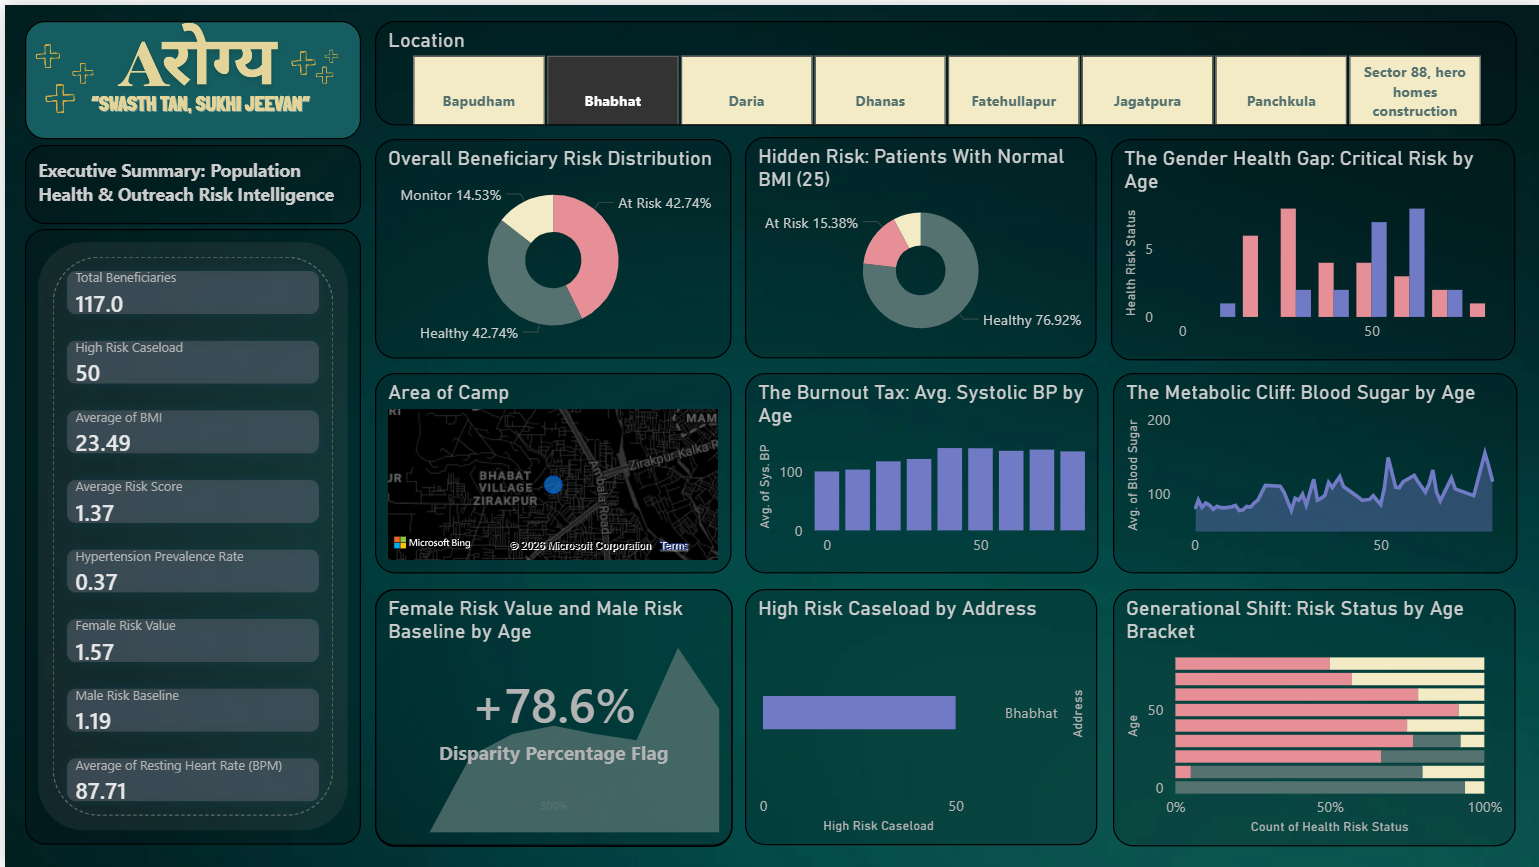

The page's visual inventory and layout, read from the dashboard file:
{"tool":"powerbi","page":{"name":"Page 1","canvas":[1280,720],"ordinal":0},"visuals":[{"type":"donutChart","title":"Overall Beneficiary Risk Distribution","fields":{"Category":["Sheet1.Health Risk Status"],"Y":["CountNonNull(Sheet1.Health Risk Status)"]},"box":[308.6,111.4,297.1,182.9],"z":0},{"type":"hundredPercentStackedBarChart","title":"Generational Shift: Risk Status by Age Bracket","fields":{"Category":["Sheet1.Age (bins)"],"Y":["CountNonNull(Sheet1.Health Risk Status)"],"Series":["Sheet1.Health Risk Status"]},"box":[922.7,486.4,335.5,214.5],"z":1000},{"type":"lineChart","title":"The Metabolic Cliff: Blood Sugar by Age","fields":{"Category":["Sheet1.Age"],"Y":["Avg(Sheet1.Blood Sugar)"]},"box":[922.9,307.1,337.1,167.1],"z":2000},{"type":"clusteredColumnChart","title":"The Gender Health Gap: Critical Risk by Age","fields":{"Category":["Sheet1.Age (bins)"],"Series":["Sheet1.Gender"],"Y":["CountNonNull(Sheet1.Health Risk Status)"]},"box":[921.4,111.4,337.1,184.3],"z":3000},{"type":"slicer","title":"Location","fields":{"Values":["Sheet1.Address"]},"box":[308.6,12.9,951.4,87],"z":4000},{"type":"map","title":"Area of Camp","fields":{"Y":["Sheet1 (4).Latitude"],"X":["Sheet1 (4).Longitute"],"Size":["CountNonNull(Sheet1.Health Risk Status)"]},"box":[308.6,307.1,297.1,167.1],"z":5000},{"type":"donutChart","title":"Hidden Risk: Patients With Normal BMI (25)","fields":{"Category":["Sheet1.Health Risk Status"],"Y":["CountNonNull(Sheet1.Health Risk Status)"]},"box":[616.7,110,292.9,184.3],"z":6000},{"type":"clusteredColumnChart","title":"The Burnout Tax: Avg. Systolic BP by Age","fields":{"Category":["Sheet1.Age (bins)"],"Y":["Avg(Sheet1.Systolic BP)"]},"box":[617.1,307.1,294.3,167.1],"z":7000},{"type":"cardVisual","fields":{"Data":["_Calculated Measures.'Total_Beneficiaries'","_Calculated Measures.High_Risk_Caseload","Avg(Sheet1 (4).BMI)","_Calculated Measures.Avg_Risk_Score","_Calculated Measures.Hypertension_Prevalence_Rate","_Calculated Measures.Female_Risk_Value","_Calculated Measures.Male_Risk_Baseline","Avg(Sheet1 (4).Resting Heart Rate (BPM))"]},"box":[17.1,187.1,280,512.9],"z":8000},{"type":"image","box":[16.7,13.3,280,98.3],"z":9000},{"type":"kpi","title":"Female Risk Value and Male Risk Baseline by Age","fields":{"Goal":["_Calculated Measures.Male Risk Baseline"],"Indicator":["_Calculated Measures.Female Risk Value"],"TrendLine":["Sheet1.Age (bins)"]},"box":[308,486,298,214],"z":10000},{"type":"clusteredBarChart","fields":{"Category":["Sheet1.Address"],"Y":["_Calculated Measures.High Risk Caseload"]},"box":[617.3,486.4,293.6,213.6],"z":11000},{"type":"textbox","box":[16.7,116.7,280,66],"z":12000},{"type":"cardVisual","fields":{"Data":["_Calculated Measures.Disparity Percentage Flag"]},"box":[308,486,298,215],"z":13000}]}

Visuals, with their boxes in screenshot pixels (x1, y1, x2, y2), scaled from the page's 1280x720 canvas onto the 1539x867 screenshot:
"Overall Beneficiary Risk Distribution" donutChart: {"x1": 371, "y1": 134, "x2": 728, "y2": 354}
"Generational Shift: Risk Status by Age Bracket" hundredPercentStackedBarChart: {"x1": 1109, "y1": 586, "x2": 1513, "y2": 844}
"The Metabolic Cliff: Blood Sugar by Age" lineChart: {"x1": 1110, "y1": 370, "x2": 1515, "y2": 571}
"The Gender Health Gap: Critical Risk by Age" clusteredColumnChart: {"x1": 1108, "y1": 134, "x2": 1513, "y2": 356}
"Location" slicer: {"x1": 371, "y1": 16, "x2": 1515, "y2": 120}
"Area of Camp" map: {"x1": 371, "y1": 370, "x2": 728, "y2": 571}
"Hidden Risk: Patients With Normal BMI (25)" donutChart: {"x1": 741, "y1": 132, "x2": 1094, "y2": 354}
"The Burnout Tax: Avg. Systolic BP by Age" clusteredColumnChart: {"x1": 742, "y1": 370, "x2": 1096, "y2": 571}
cardVisual - _Calculated Measures.'Total_Beneficiaries' x _Calculated Measures.High_Risk_Caseload: {"x1": 21, "y1": 225, "x2": 357, "y2": 843}
image: {"x1": 20, "y1": 16, "x2": 357, "y2": 134}
"Female Risk Value and Male Risk Baseline by Age" kpi: {"x1": 370, "y1": 585, "x2": 729, "y2": 843}
clusteredBarChart - Sheet1.Address x _Calculated Measures.High Risk Caseload: {"x1": 742, "y1": 586, "x2": 1095, "y2": 843}
textbox: {"x1": 20, "y1": 141, "x2": 357, "y2": 220}
cardVisual - _Calculated Measures.Disparity Percentage Flag: {"x1": 370, "y1": 585, "x2": 729, "y2": 844}
